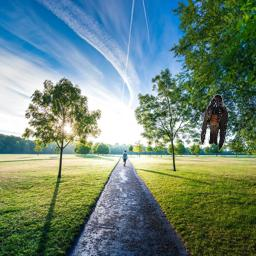Swallow: (200, 94, 228, 150)
